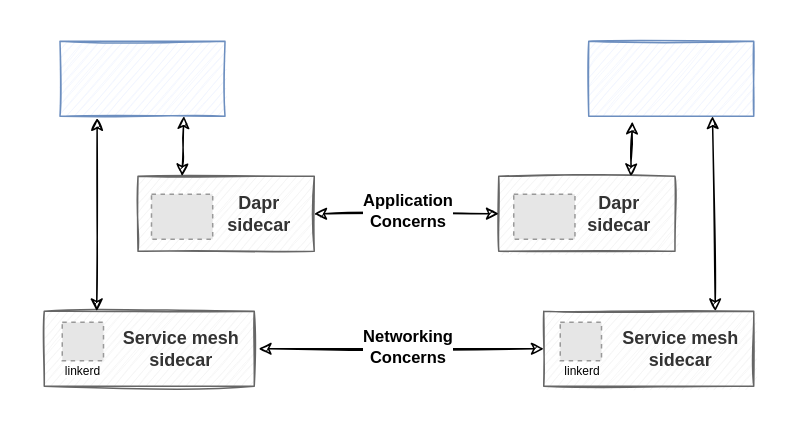
Some shapes in this 806 by 426 pixel diagram are drawn without their labels. Grey dashed boxes stand in for pictures. The shapes that lost their labels are listed below. From the top down, each one's centre as x and y in pixels, then its label:
At (x=141, y=78): "Service A".
At (x=670, y=78): "Service B".
